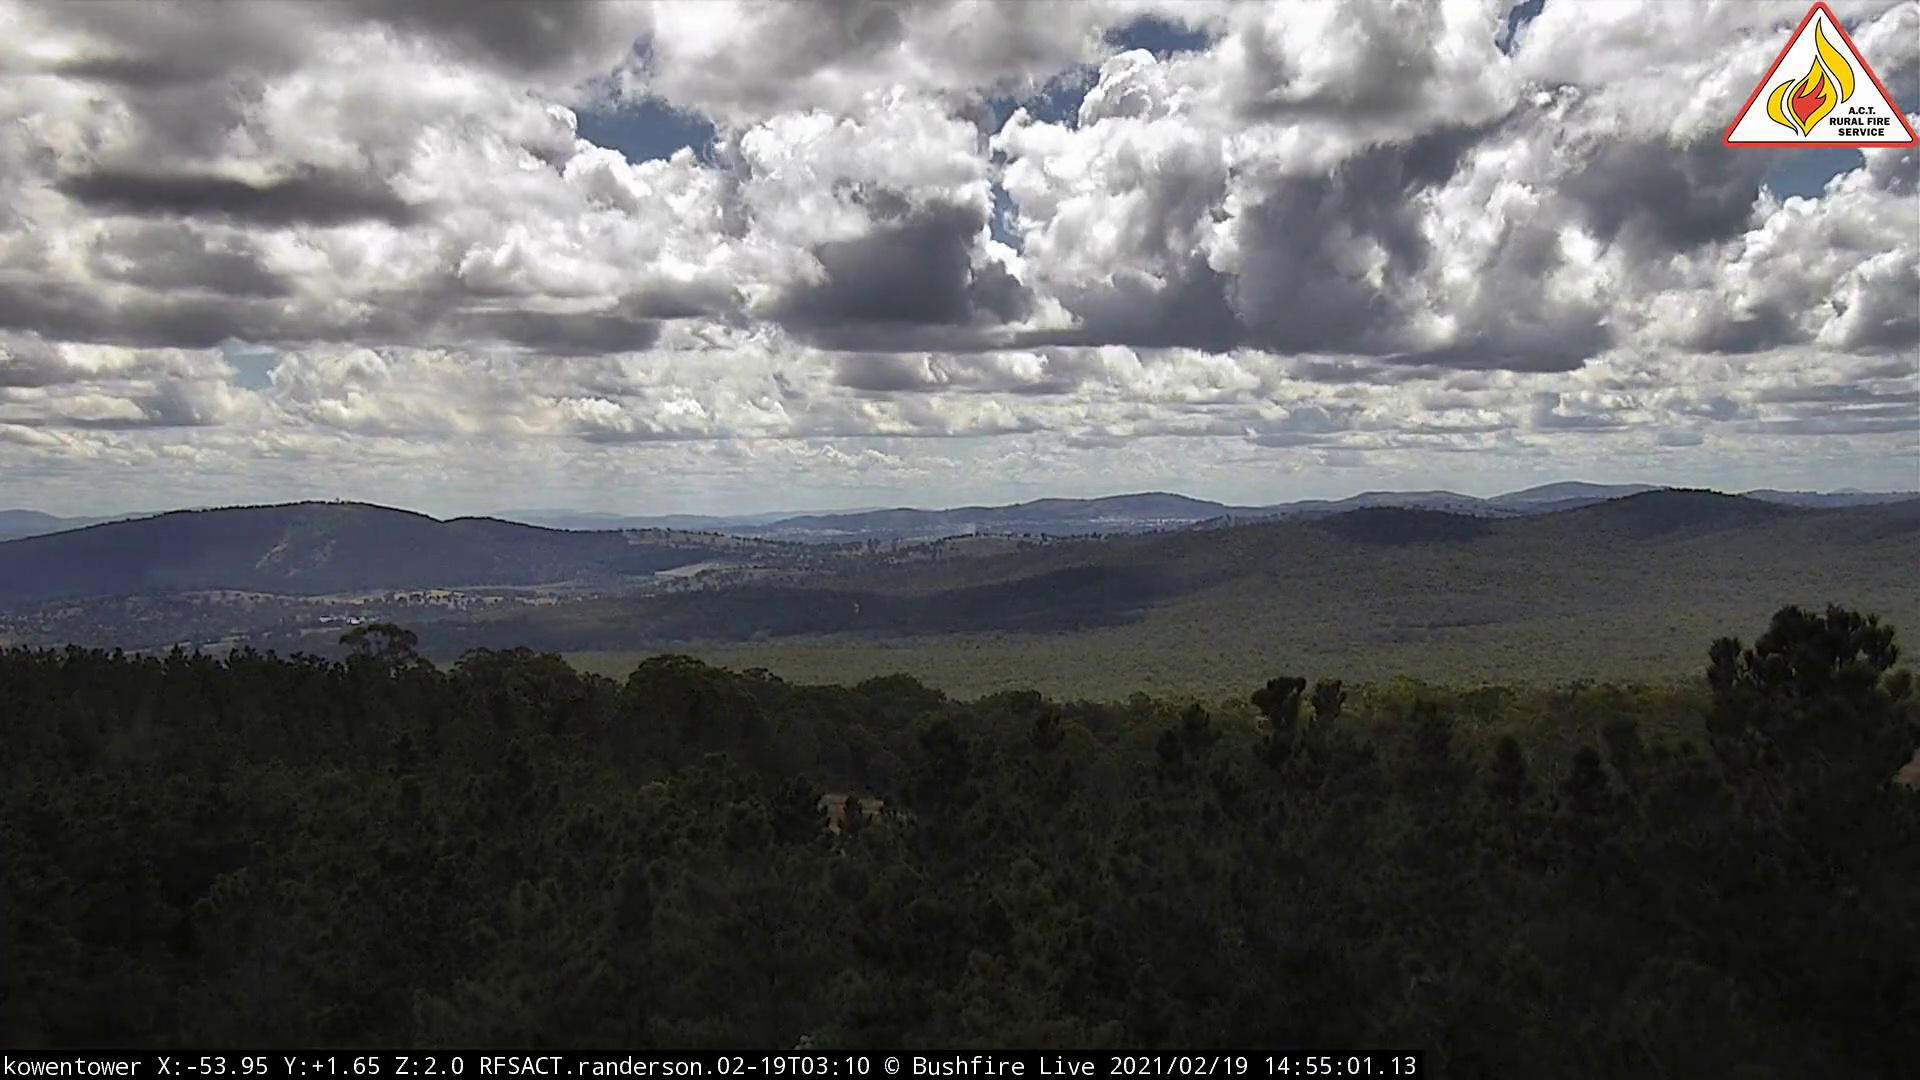instance_salient_object: (932, 501, 1002, 549)
